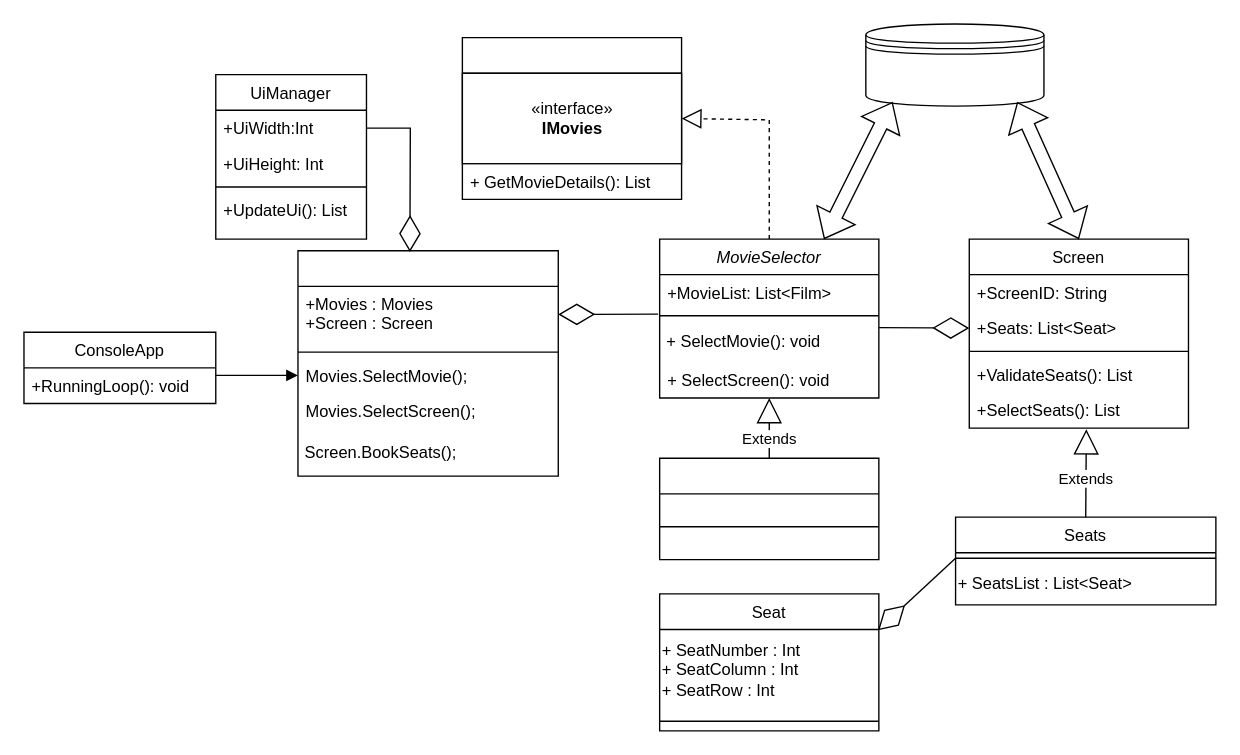
Some shapes in this 1240 by 755 pixel diagram are drawn without their labels. Here are the shapes that lost their labels. From the top down, the box of each, then its label:
(864, 23, 1044, 106): Database
(297, 249, 558, 476): MovieAppManager
(658, 457, 879, 560): Movies
